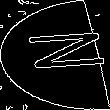N_E: (6, 32, 104, 78)
